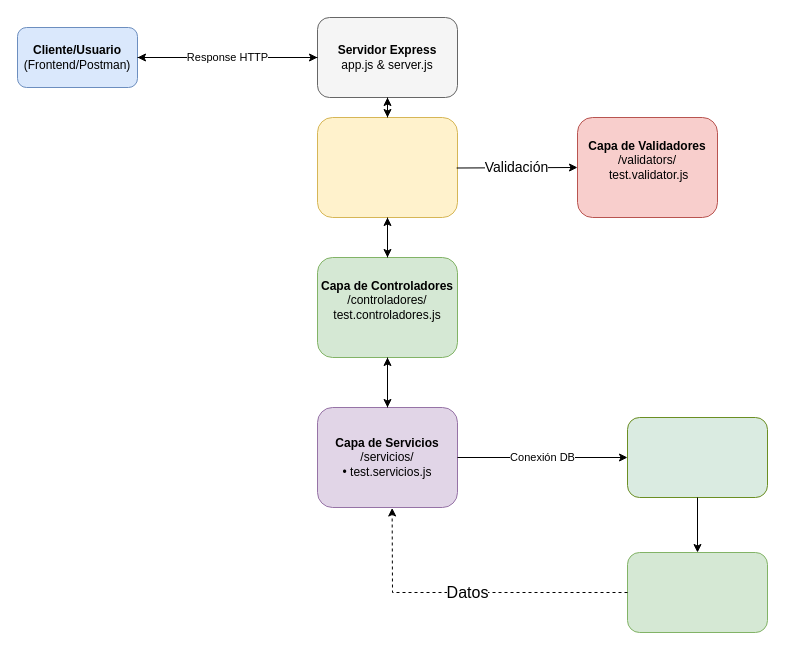
Image size: 785x650. Some labels were removed from this diagram. The shapes that lost their labels are listed below. From the top down, each one's centre as x and y in pixels, then its label:
the point at 387,167: Capa de Rutas /rutas/ test.route.js
the point at 697,457: Configuración /config/ prisma.config.js
the point at 697,592: Base de Datos PostgreSQL Prisma ORM
